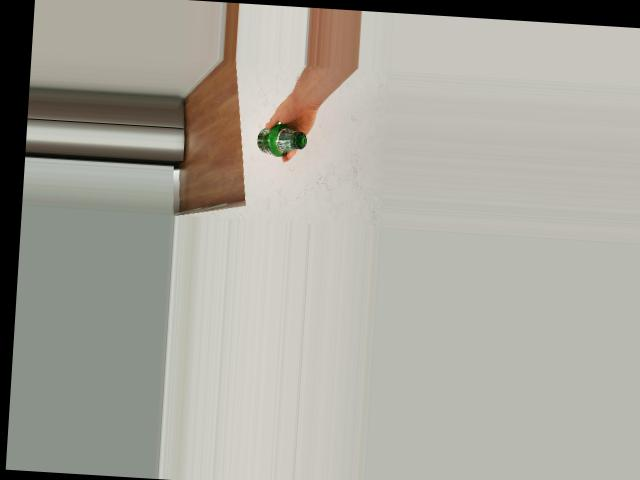beer: (256, 122, 307, 158)
